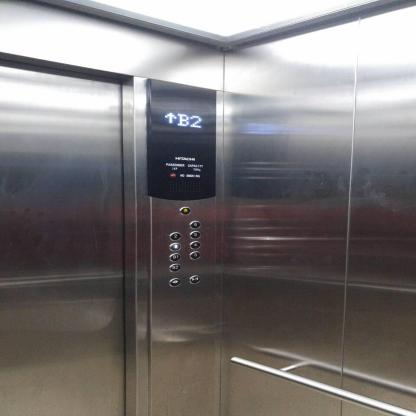1: (168, 242, 182, 251)
2: (168, 232, 182, 241)
3: (188, 250, 202, 260)
4: (188, 240, 202, 250)
5: (188, 230, 202, 240)
6: (188, 220, 202, 229)
B1: (168, 253, 182, 262)
B2: (167, 263, 181, 272)
alarm: (178, 206, 192, 216)
close: (186, 275, 200, 284)
led: (142, 74, 219, 201)
open: (167, 277, 181, 287)
